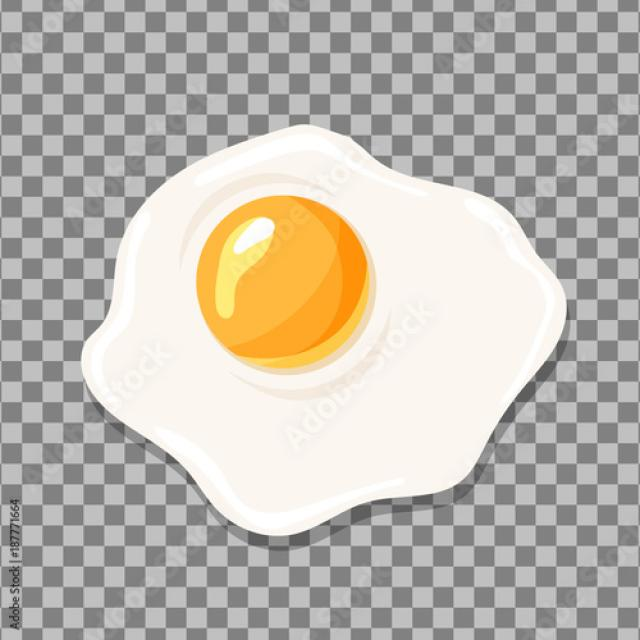Egg: (81, 125, 566, 534)
